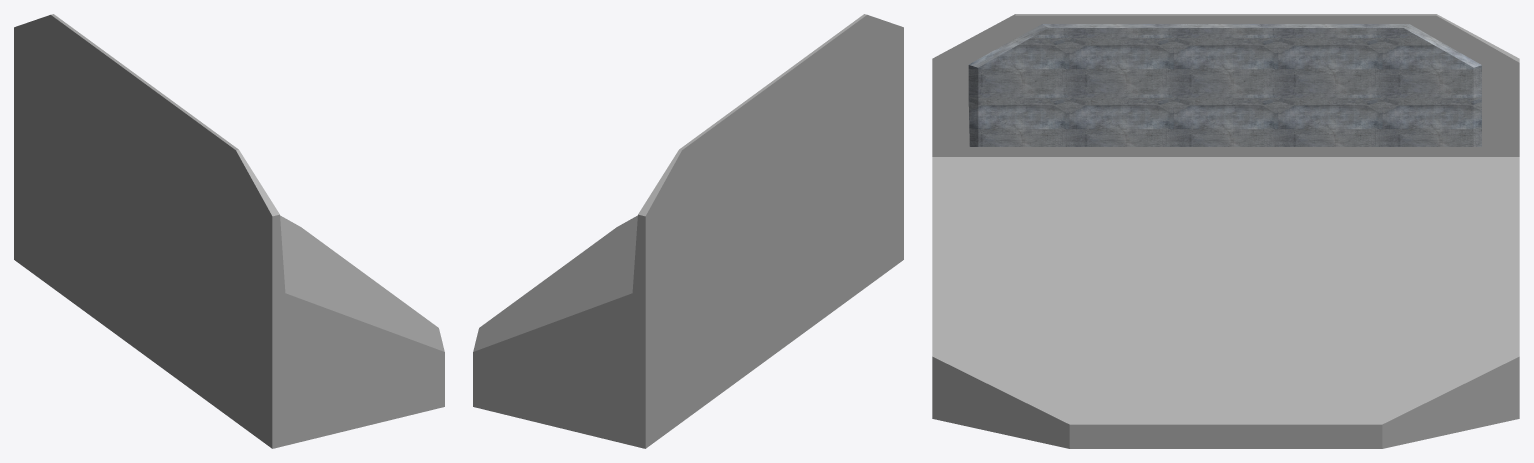
Rendered from Podstavka.fbx.
3 views of the same model, side by side, from view 1: azimuth 30°, elevation 25°; view 2: azimuth 150°, elevation 25°; view 3: azimuth 270°, elevation 25° (orthographic). The views are drawn at different scales.
Parts seen in each view (by area): view 1: Desk; view 2: Desk; view 3: Desk, IronLable.
Part boxes in pixels (left/top/right/bottom): Desk: left=14, top=14, right=444, bottom=448; Desk: left=473, top=14, right=903, bottom=448; Desk: left=932, top=14, right=1519, bottom=448; IronLable: left=968, top=24, right=1481, bottom=146.
Bounding box in the file's own units: 70.26 × 80.5 × 139.
